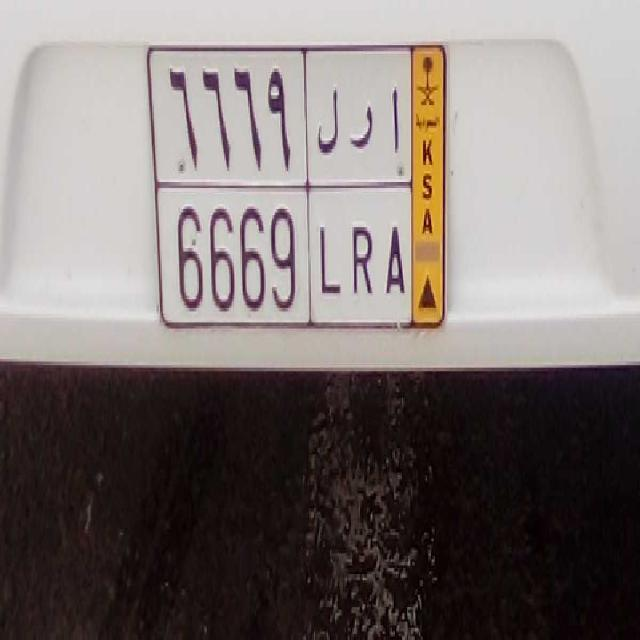license_plate: (158, 181, 412, 324)
